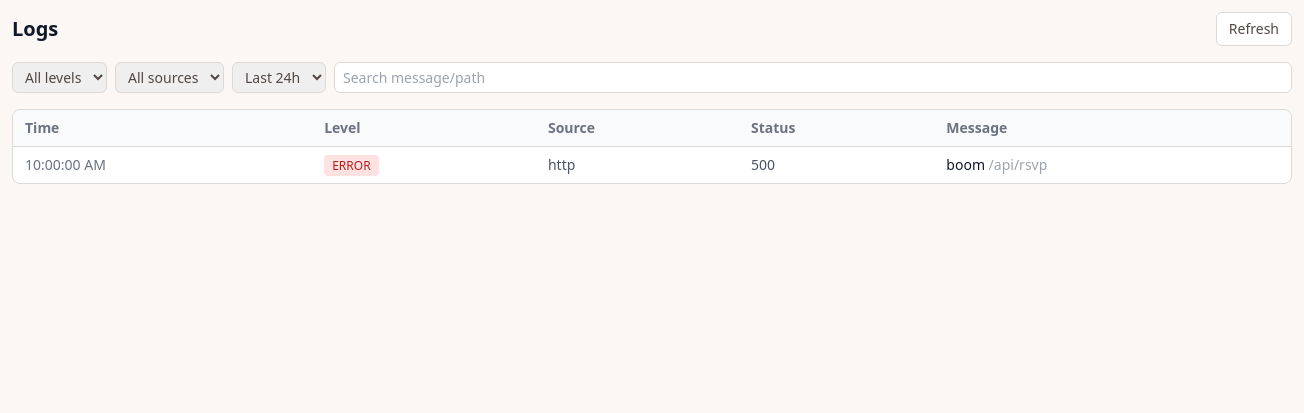
Test case: LogsPage › clicking a row loads the request trace
Expected: the text "boom" is shown, [946,155,985,174]
What coordinates should you click on to do the following:
click the text "boom"
I would click on:
 (997, 164)
Its box is [946,155,1047,174].
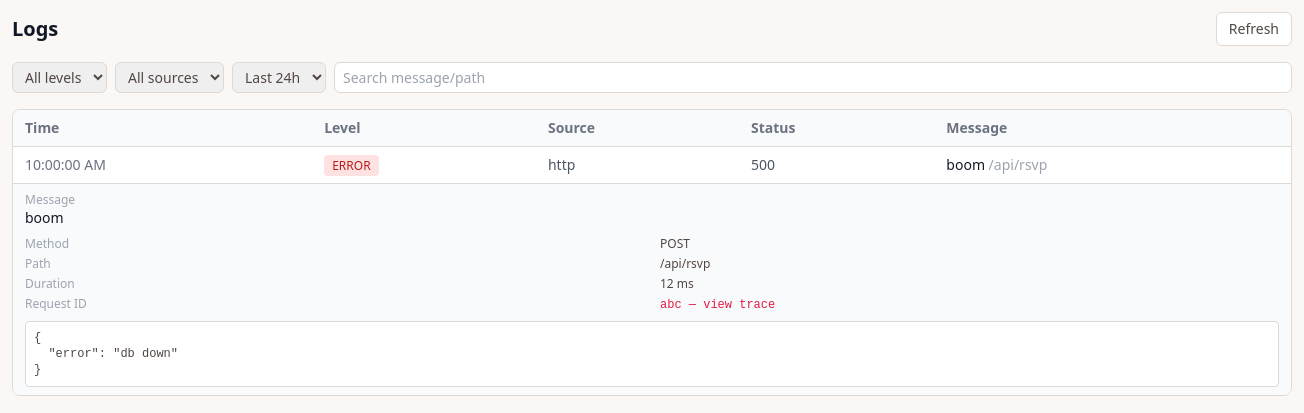
What coordinates should you click on to do the following:
click the button "abc — view trace"
I would click on:
 (718, 305)
Its box is [660,297,775,313].
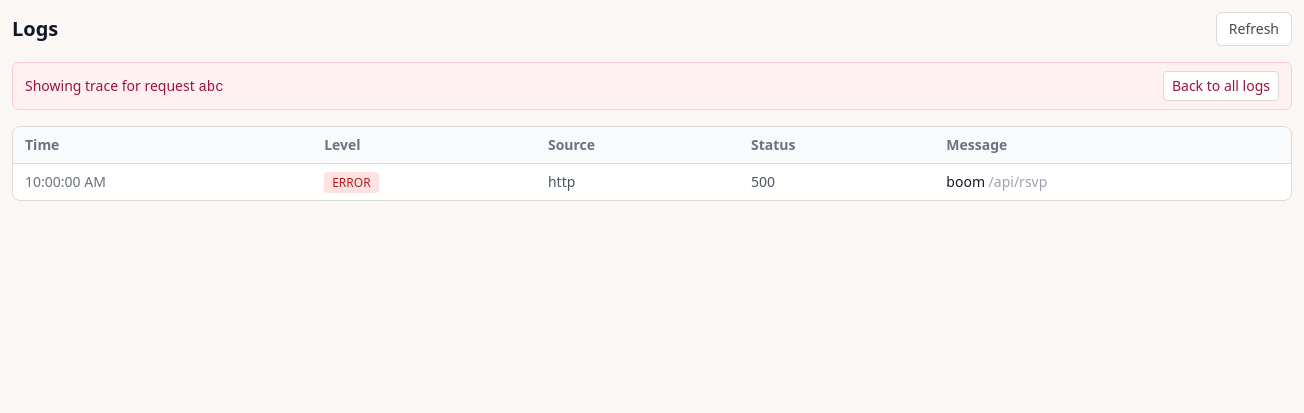
Now the button "Back to all logs" is shown, box [1163,71,1279,101]
